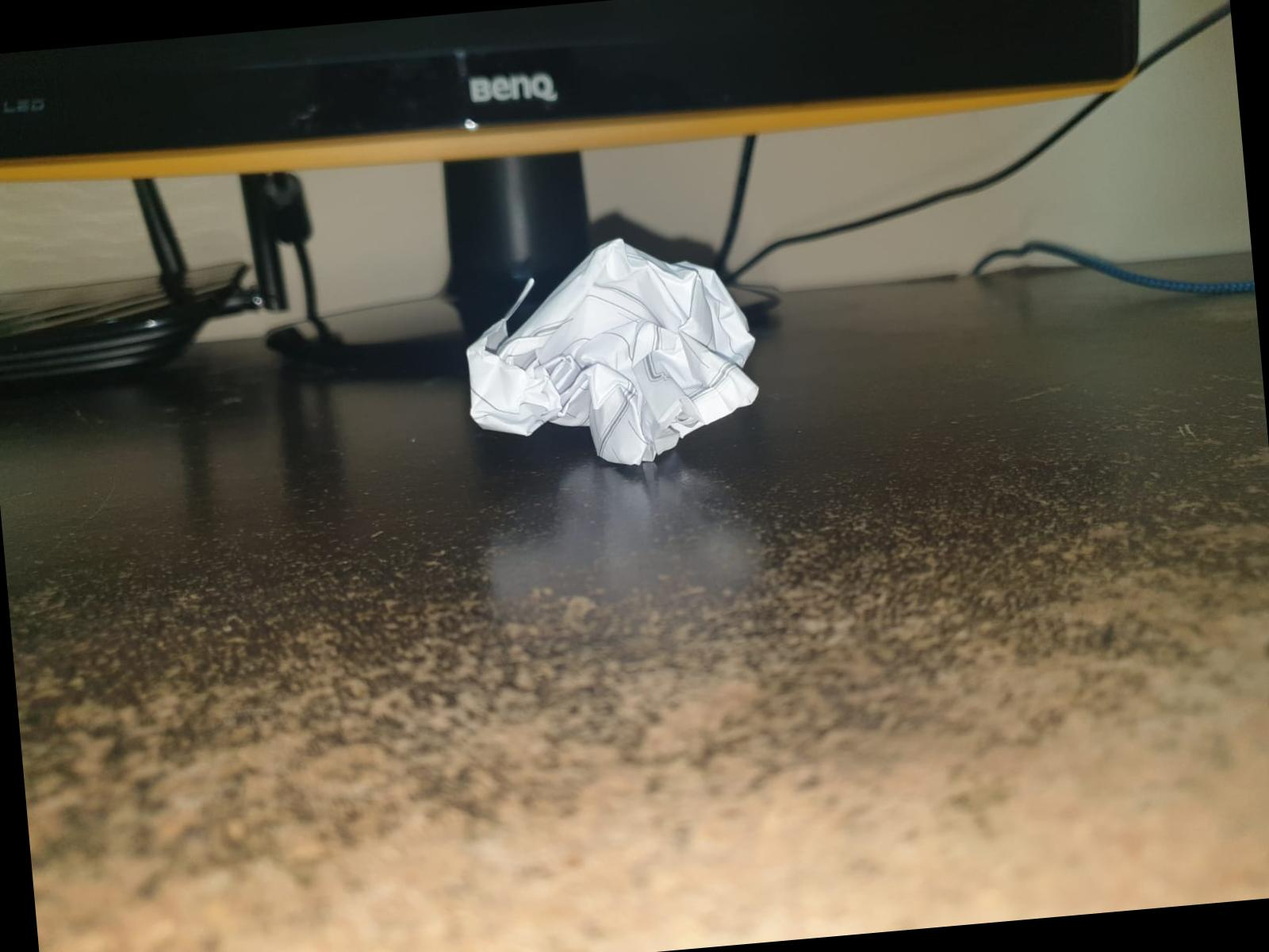Kertas: (467, 237, 758, 463)
